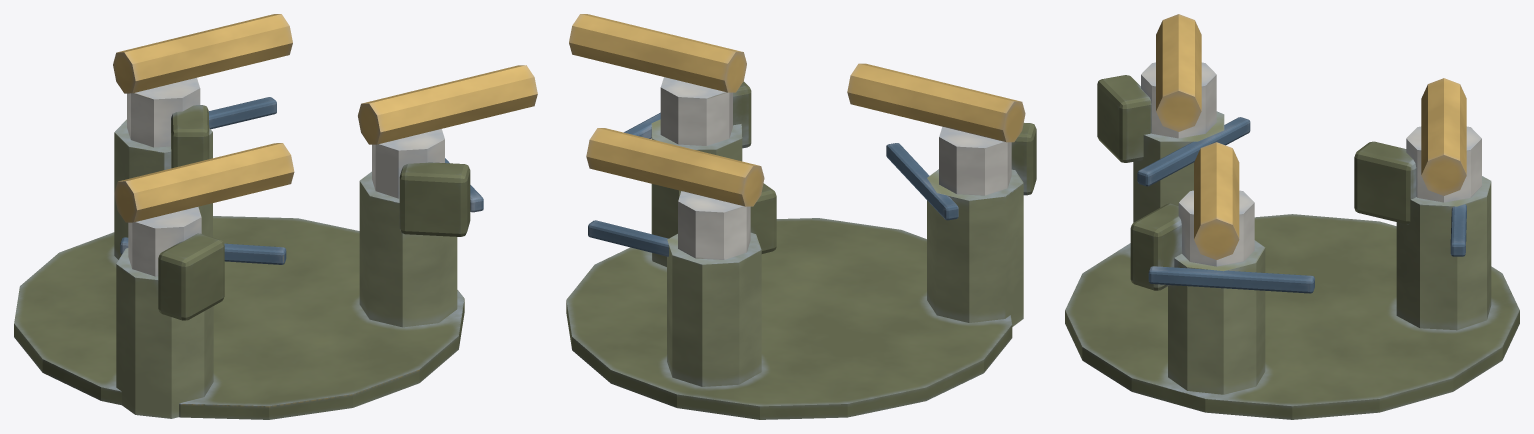
File: com_rocket_squad.glb
The picture shows the model from 3 angles, left to right: view 1: azimuth 30°, elevation 25°; view 2: azimuth 150°, elevation 25°; view 3: azimuth 270°, elevation 25°; orthographic projection.
Visible parts, largest first — view 1: com_rocket_squad; view 2: com_rocket_squad; view 3: com_rocket_squad.
Part boxes in pixels (x1,y1,x2,y2): com_rocket_squad: (14,14,537,419); com_rocket_squad: (566,14,1036,419); com_rocket_squad: (1065,14,1519,419).
Bounding box in the file's own units: 0.68 × 0.33 × 0.6.
1 material, 1 textured.
